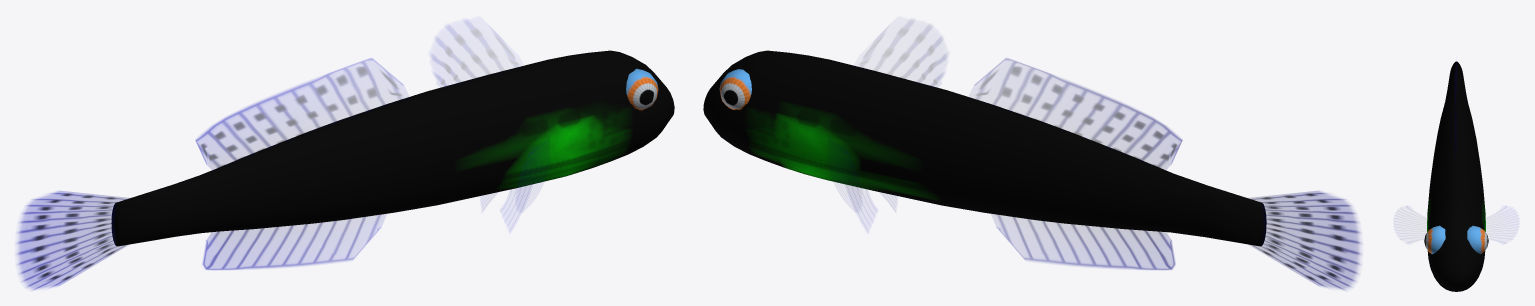
File: diamond_goby_lod1.glb
3 renders of one model, left to right at view 1: azimuth 30°, elevation 25°; view 2: azimuth 150°, elevation 25°; view 3: azimuth 270°, elevation 25°, orthographic. The views are drawn at different scales.
Parts seen in each view (by area): view 1: Body, FinCaudal, FinDorsal2, FinAnal, FinDorsal, EyeR; view 2: Body, FinCaudal, FinDorsal2, FinAnal, FinDorsal, EyeL; view 3: Body, EyeR, EyeL.
Part boxes in pixels (box(x1,y1,x2,y2)): Body: box(111, 50, 674, 246); FinCaudal: box(17, 191, 129, 289); FinDorsal2: box(195, 58, 403, 170); FinAnal: box(202, 215, 381, 269); FinDorsal: box(432, 21, 518, 87); EyeR: box(626, 68, 658, 110); Body: box(703, 50, 1266, 246); FinCaudal: box(1248, 191, 1360, 289); FinDorsal2: box(974, 58, 1182, 170); FinAnal: box(996, 215, 1175, 269); FinDorsal: box(859, 21, 946, 87); EyeL: box(719, 69, 751, 109); Body: box(1427, 61, 1485, 291); EyeR: box(1424, 225, 1445, 254); EyeL: box(1467, 225, 1488, 254).
Bounding box in the file's own units: 1 × 0.3159 × 0.2357.
4 materials, 3 textured.
